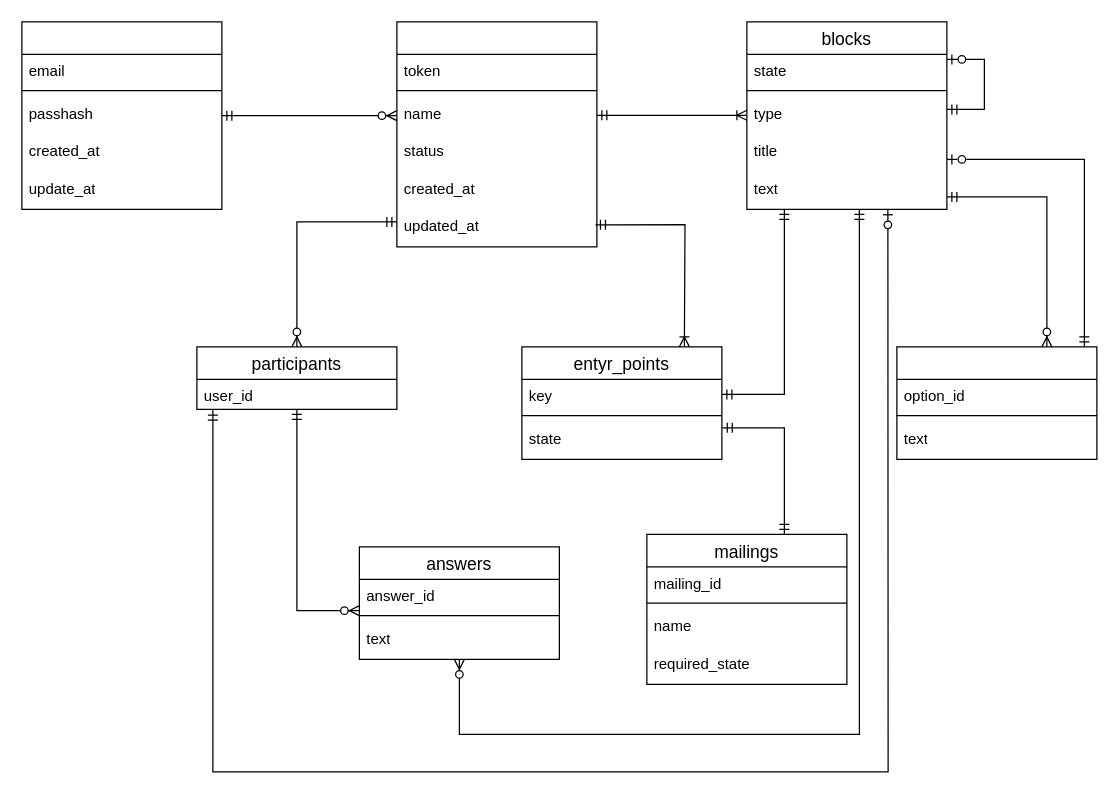
Some shapes in this 1119 by 805 pixel diagram are drawn without their labels. The box of each missing label's shape, as (x1, y1, x2, y2) in pixels:
bots: (396, 21, 597, 247)
options: (896, 346, 1097, 459)
users: (21, 21, 222, 209)
